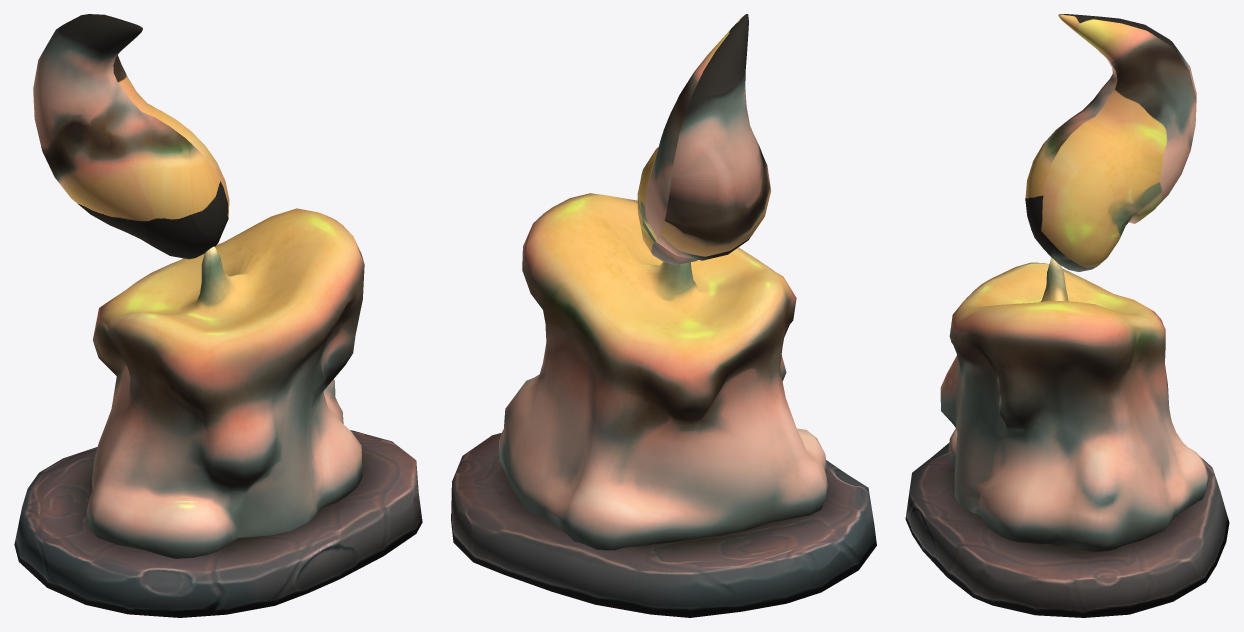
The model's file is candleandlight.fbx.
3 views of the same model, side by side, from view 1: azimuth 30°, elevation 25°; view 2: azimuth 150°, elevation 25°; view 3: azimuth 270°, elevation 25° (orthographic). The views are drawn at different scales.
Visible parts, largest first — view 1: candle_low, rock_low, Group1816; view 2: candle_low, rock_low, Group1816; view 3: candle_low, Group1816, rock_low.
Part boxes in pixels (box(x1,y1,x2,y2)): candle_low: box(86, 208, 364, 558); rock_low: box(14, 430, 422, 617); Group1816: box(33, 14, 229, 259); candle_low: box(499, 193, 828, 550); rock_low: box(451, 433, 876, 617); Group1816: box(637, 14, 770, 264); candle_low: box(940, 257, 1208, 551); Group1816: box(1025, 14, 1196, 271); rock_low: box(905, 443, 1229, 617).
Bounding box in the file's own units: 65.1 × 89.45 × 53.93.
